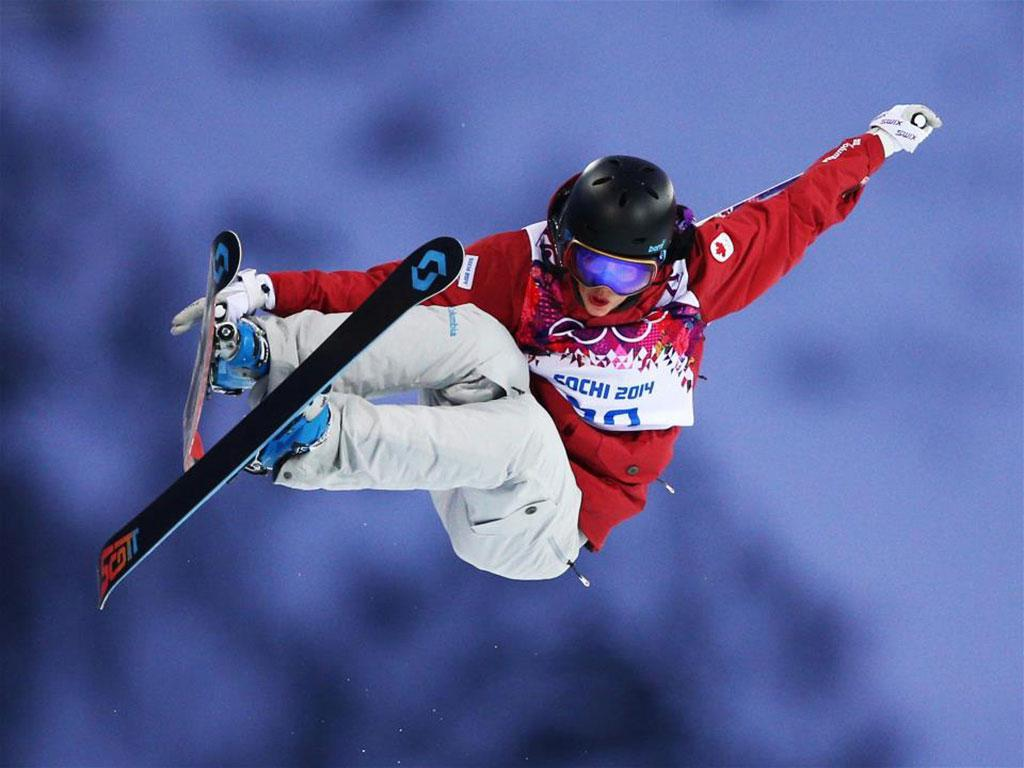face: (577, 227, 645, 319)
